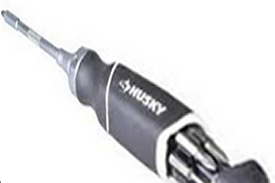screwdriver: (1, 6, 270, 183)
